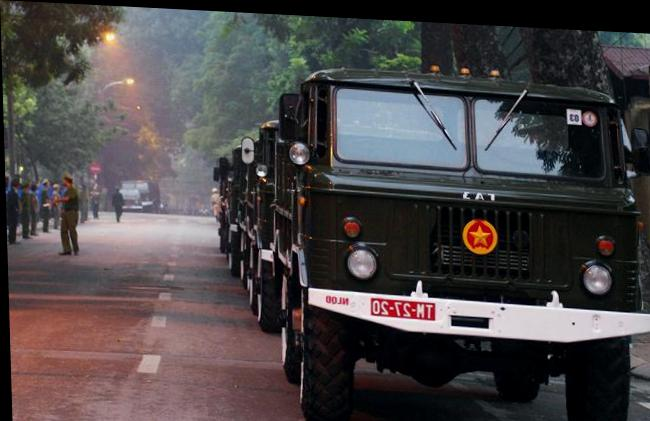License_Plate: (368, 296, 437, 323)
